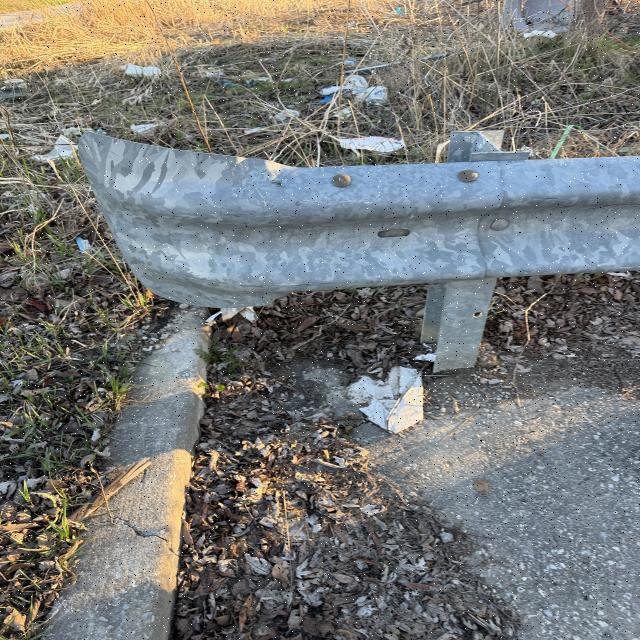Guard rail: (88, 138, 625, 310)
